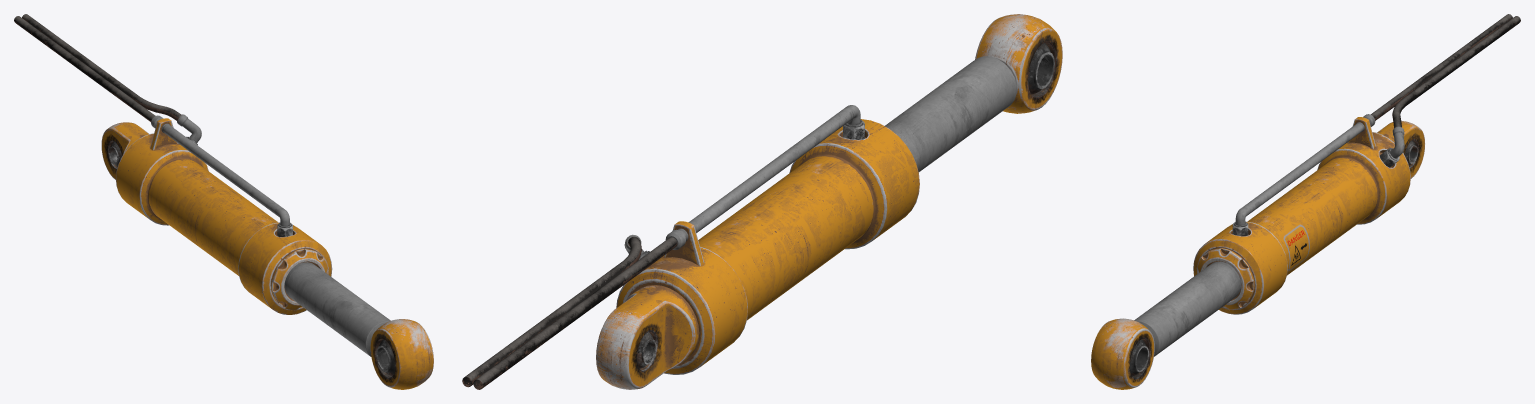
The model's file is hydraulic_piston.glb.
3 renders of one model, left to right at view 1: azimuth 30°, elevation 25°; view 2: azimuth 150°, elevation 25°; view 3: azimuth 330°, elevation 25°, orthographic. The views are drawn at different scales.
Visible parts, largest first — view 1: piston1, piston2; view 2: piston1, piston2; view 3: piston1, piston2.
Part boxes in pixels (x1,y1,x2,y2): piston1: (14,14,332,314); piston2: (284,262,433,389); piston1: (462,105,919,389); piston2: (885,14,1062,172); piston1: (1193,14,1520,314); piston2: (1091,261,1240,389).
Bounding box in the file's own units: 2.56 × 3.22 × 24.12.
Materials: 1 (1 with a texture image).
